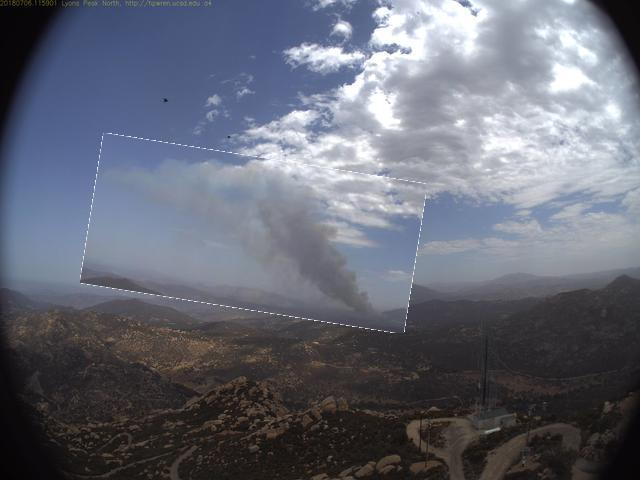smoke: (86, 147, 424, 323)
